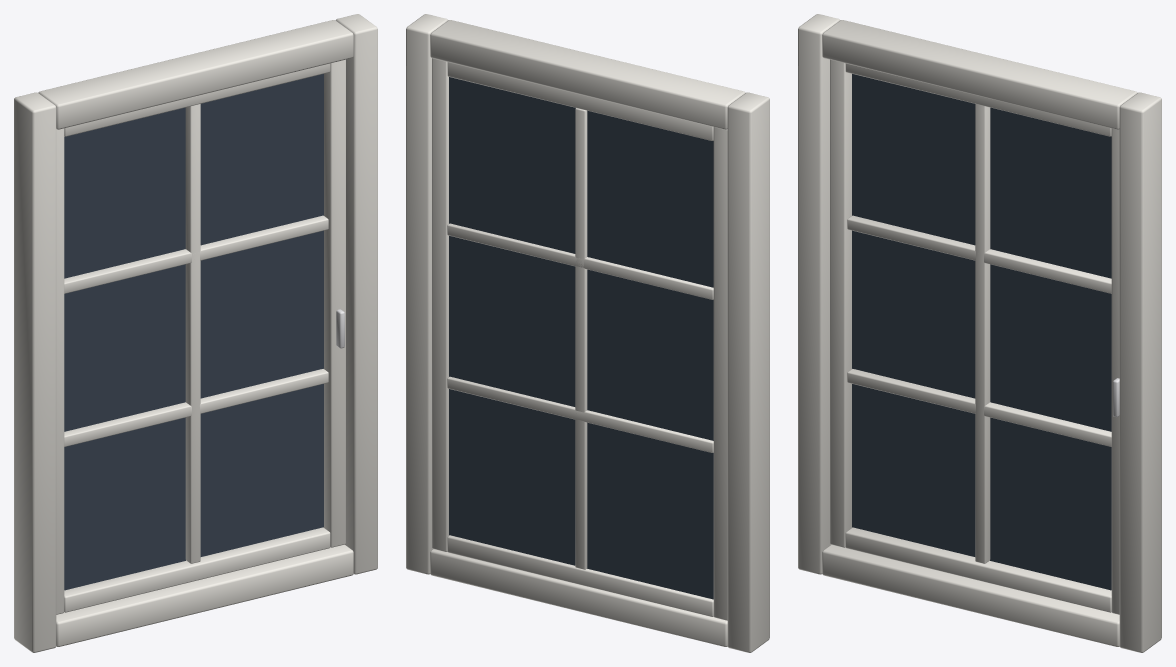
File: window_23.glb
The picture shows the model from 3 angles, left to right: view 1: azimuth 30°, elevation 25°; view 2: azimuth 150°, elevation 25°; view 3: azimuth 330°, elevation 25°; orthographic projection.
Parts seen in each view (by area): view 1: glass, frame_l, frame_r, frame_t, sash_r, frame_b, mullion1, sash_b, sash_l, transom2, transom1, sash_t; view 2: glass, frame_l, frame_r, frame_t, sash_r, frame_b, sash_l, mullion1, sash_b, sash_t, transom1, transom2; view 3: glass, frame_r, frame_l, frame_t, sash_l, frame_b, mullion1, sash_b, sash_r, transom2, transom1, sash_t.
Boxes of the visible parts, box(x1,y1,x2,y2) form: glass: box(64, 74, 323, 590); frame_l: box(14, 92, 56, 652); frame_r: box(336, 14, 377, 574); frame_t: box(38, 20, 353, 129); sash_r: box(323, 59, 345, 547); frame_b: box(56, 544, 353, 646); mullion1: box(185, 104, 200, 563); sash_b: box(64, 527, 330, 612); sash_l: box(56, 128, 64, 614); transom2: box(64, 215, 328, 293); transom1: box(64, 369, 328, 446); sash_t: box(64, 63, 330, 136); glass: box(449, 77, 713, 599); frame_l: box(727, 92, 769, 652); frame_r: box(406, 14, 447, 574); frame_t: box(430, 20, 745, 129); sash_r: box(432, 58, 449, 551); frame_b: box(430, 549, 727, 646); sash_l: box(713, 127, 727, 620); mullion1: box(575, 108, 587, 569); sash_b: box(447, 535, 713, 616); sash_t: box(447, 62, 713, 140); transom1: box(447, 376, 713, 452); transom2: box(447, 223, 713, 299); glass: box(852, 74, 1111, 590); frame_r: box(1119, 92, 1161, 652); frame_l: box(798, 14, 839, 574); frame_t: box(822, 20, 1137, 129); sash_l: box(830, 59, 852, 547); frame_b: box(822, 544, 1119, 646); mullion1: box(975, 104, 990, 563); sash_b: box(845, 527, 1111, 612); sash_r: box(1111, 128, 1119, 614); transom2: box(847, 215, 1111, 293); transom1: box(847, 369, 1111, 446); sash_t: box(845, 63, 1111, 136).
Size of the model in its own units: 1 by 1.5 by 0.1.
